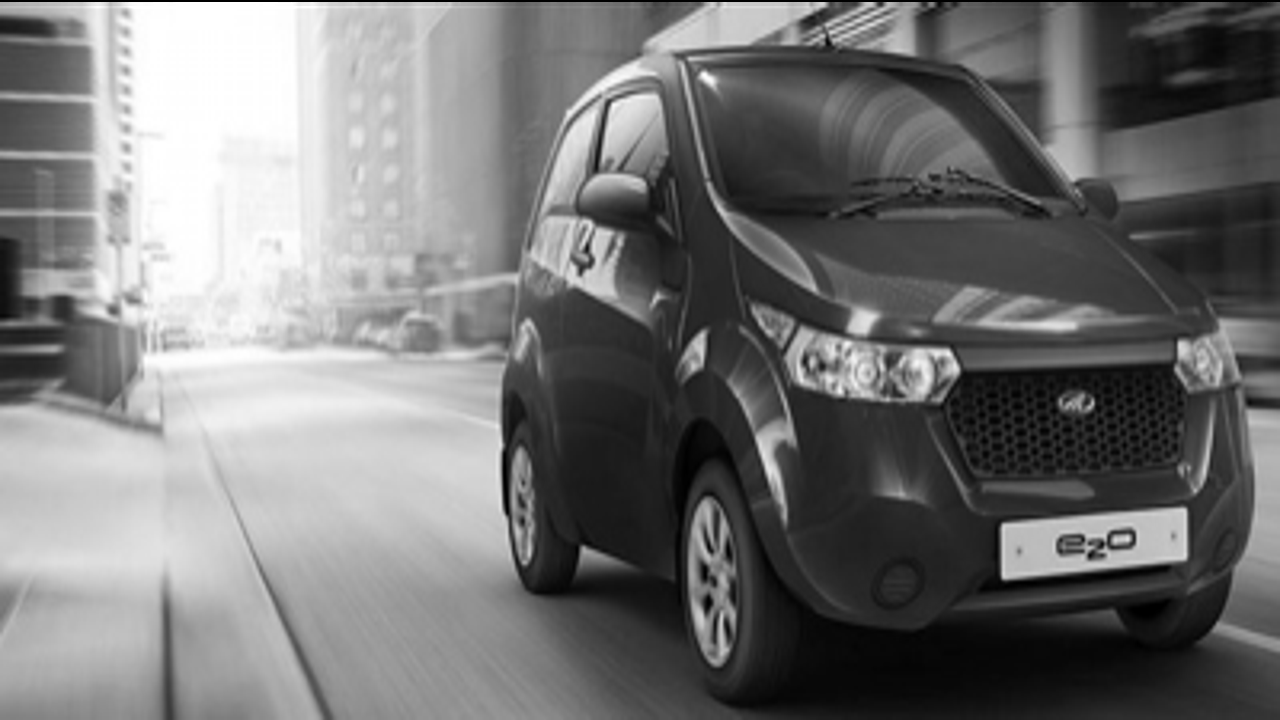license: (990, 502, 1209, 590)
